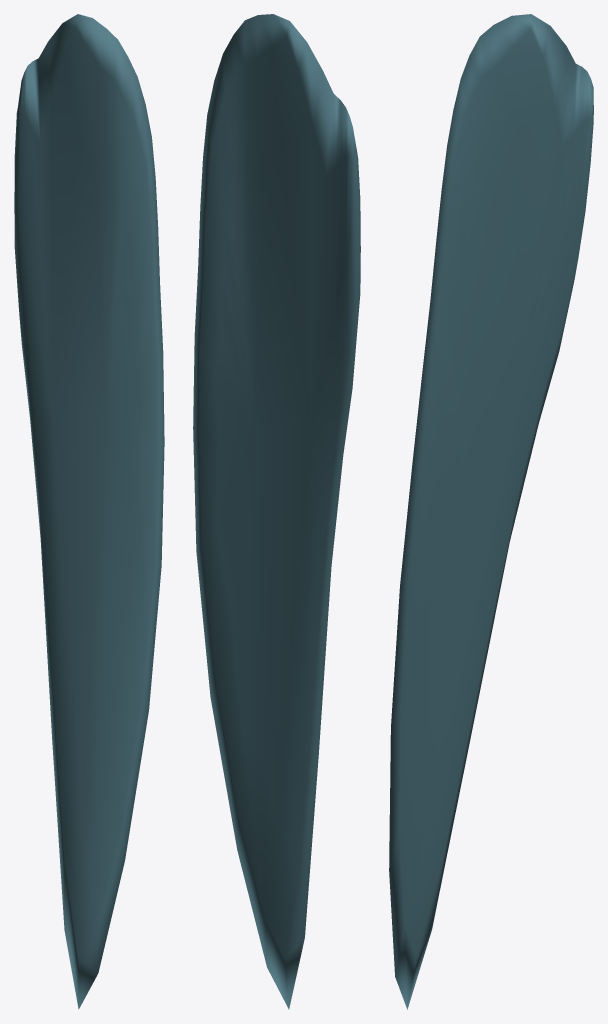
Rendered from Pectineus_medial_surface_femur_left.glb.
3 views of the same model, side by side, from view 1: azimuth 30°, elevation 25°; view 2: azimuth 210°, elevation 25°; view 3: azimuth 270°, elevation 25° (orthographic). The views are drawn at different scales.
Visible parts, largest first — view 1: Pectineus_muscle_on_medial_surface_od_femur.l_Generated_Mesh; view 2: Pectineus_muscle_on_medial_surface_od_femur.l_Generated_Mesh; view 3: Pectineus_muscle_on_medial_surface_od_femur.l_Generated_Mesh.
Part boxes in pixels (bbox=[...]): Pectineus_muscle_on_medial_surface_od_femur.l_Generated_Mesh: bbox=[14, 14, 164, 1009]; Pectineus_muscle_on_medial_surface_od_femur.l_Generated_Mesh: bbox=[193, 14, 360, 1009]; Pectineus_muscle_on_medial_surface_od_femur.l_Generated_Mesh: bbox=[389, 14, 593, 1009].
Size of the model in its own units: 0.00368 by 0.0346 by 0.00626.
